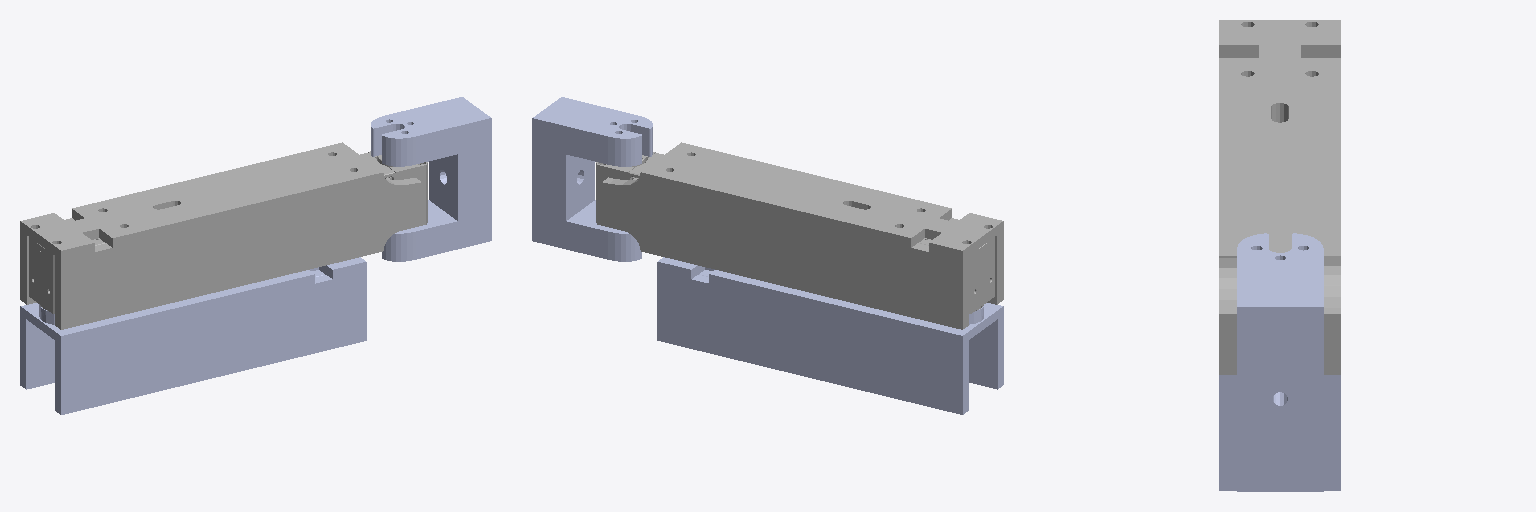
The robot description file, URDF, robot "robot_arm_description":
<?xml version="1.0" encoding="utf-8"?>
<!-- This URDF was automatically created by SolidWorks to URDF Exporter! Originally created by [author] ([email redacted]) 
     Commit Version: 1.6.0-4-g7f85cfe  Build Version: 1.6.7995.38578
     For more information, please see http://wiki.ros.org/sw_urdf_exporter -->
<robot name="robot_arm_description">

  <link
    name="base_link">
    <inertial>
      <origin
        xyz="0.10702 -0.045658 0.079964"
        rpy="0 0 0" />
      <mass
        value="0.072275" />
      <inertia
        ixx="4.5914E-05"
        ixy="-5.1278E-12"
        ixz="-6.7334E-12"
        iyy="2.3262E-05"
        iyz="-1.2661E-11"
        izz="5.7978E-05" />
    </inertial>
    <visual>
      <origin
        xyz="0 0 0"
        rpy="0 0 0" />
      <geometry>
        <mesh
          filename="package://robot_arm_description/meshes/base_link.STL" />
      </geometry>
      <material
        name="">
        <color
          rgba="0.79216 0.81961 0.93333 1" />
      </material>
    </visual>
    <collision>
      <origin
        xyz="0 0 0"
        rpy="0 0 0" />
      <geometry>
        <mesh
          filename="package://robot_arm_description/meshes/base_link.STL" />
      </geometry>
    </collision>
  </link>
  <link
    name="one_Link">
    <inertial>
      <origin
        xyz="-8.8678E-05 -0.10362 0.022426"
        rpy="0 0 0" />
      <mass
        value="0.3878" />
      <inertia
        ixx="0.00082526"
        ixy="1.7542E-08"
        ixz="-1.9552E-10"
        iyy="0.00011128"
        iyz="-4.8804E-06"
        izz="0.00082685" />
    </inertial>
    <visual>
      <origin
        xyz="0 0 0"
        rpy="0 0 0" />
      <geometry>
        <mesh
          filename="package://robot_arm_description/meshes/one_Link.STL" />
      </geometry>
      <material
        name="">
        <color
          rgba="0.75294 0.75294 0.75294 1" />
      </material>
    </visual>
    <collision>
      <origin
        xyz="0 0 0"
        rpy="0 0 0" />
      <geometry>
        <mesh
          filename="package://robot_arm_description/meshes/one_Link.STL" />
      </geometry>
    </collision>
  </link>
  <joint
    name="joint1"
    type="continuous">
    <origin
      xyz="0.081042 -0.079964 -0.023257"
      rpy="-3.1416 0 1.5708" />
    <parent
      link="base_link" />
    <child
      link="one_Link" />
    <axis
      xyz="0 0 1" />
  </joint>
  <link
    name="two_Link">
    <inertial>
      <origin
        xyz="-0.084953 -0.028972 8.3035E-07"
        rpy="0 0 0" />
      <mass
        value="0.30735" />
      <inertia
        ixx="9.6387E-05"
        ixy="-4.79E-06"
        ixz="-7.9147E-09"
        iyy="0.00056675"
        iyz="-2.9627E-10"
        izz="0.00056878" />
    </inertial>
    <visual>
      <origin
        xyz="0 0 0"
        rpy="0 0 0" />
      <geometry>
        <mesh
          filename="package://robot_arm_description/meshes/two_Link.STL" />
      </geometry>
      <material
        name="">
        <color
          rgba="0.79216 0.81961 0.93333 1" />
      </material>
    </visual>
    <collision>
      <origin
        xyz="0 0 0"
        rpy="0 0 0" />
      <geometry>
        <mesh
          filename="package://robot_arm_description/meshes/two_Link.STL" />
      </geometry>
    </collision>
  </link>
  <joint
    name="joint2"
    type="continuous">
    <origin
      xyz="-0.0001 -0.2005 0.041401"
      rpy="-1.5708 0 -1.5708" />
    <parent
      link="one_Link" />
    <child
      link="two_Link" />
    <axis
      xyz="0 1 0" />
  </joint>
</robot>

--- Facts derived from the render (not from the file) ---
The picture shows the robot from 3 angles, left to right: view 1: azimuth 30°, elevation 25°; view 2: azimuth 150°, elevation 25°; view 3: azimuth 270°, elevation 25°; orthographic projection.
Model robot_arm_description with 3 links and 2 joints (2 continuous), rooted at base_link, posed all joints at 0.
Links seen in each view (by area): view 1: one_Link, two_Link, base_link; view 2: one_Link, two_Link, base_link; view 3: one_Link, base_link, two_Link.
Link boxes in pixels (<box>): one_Link: <box>20,142,427,329</box>; two_Link: <box>20,257,366,414</box>; base_link: <box>371,97,491,261</box>; one_Link: <box>596,142,1003,329</box>; two_Link: <box>657,257,1003,414</box>; base_link: <box>532,97,652,261</box>; one_Link: <box>1219,20,1340,374</box>; base_link: <box>1237,233,1323,491</box>; two_Link: <box>1219,375,1340,490</box>.
Bounding box of the posed robot: 0.2592 × 0.042 × 0.106 m (x, y, z).
Meshes: 3 distinct files referenced, 3 mesh visuals loaded (3 binary STL).